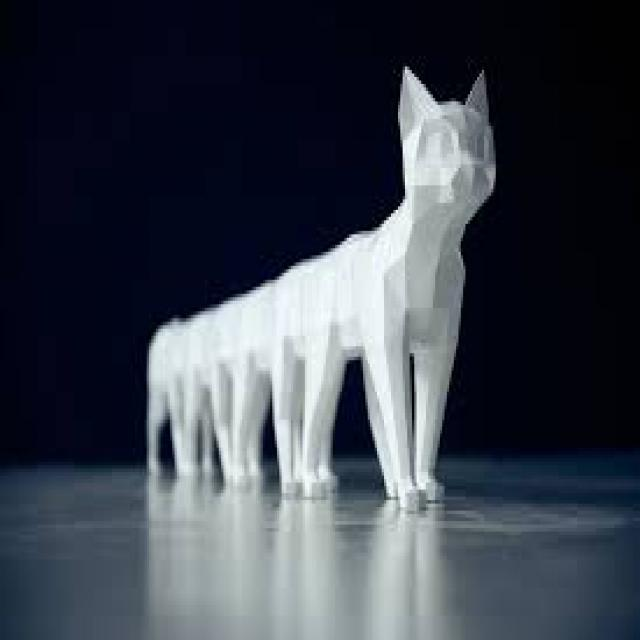Cat: (142, 62, 500, 516)
